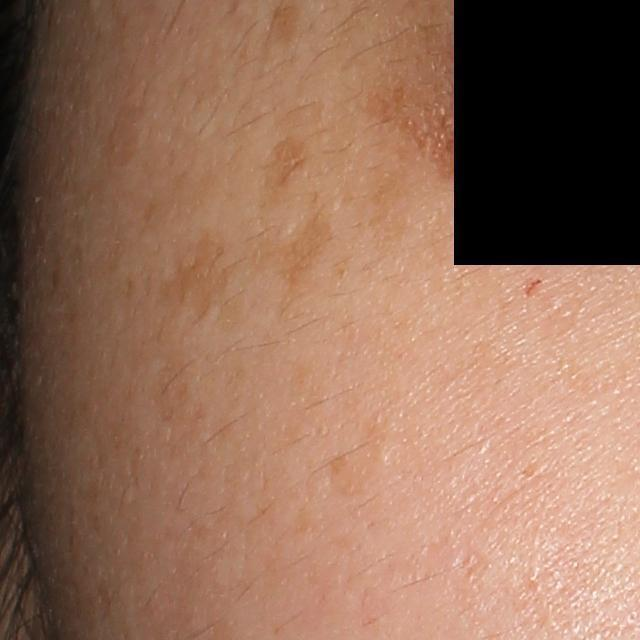melasma: (363, 83, 499, 185), (247, 193, 337, 308), (160, 229, 231, 323), (260, 130, 311, 211)
